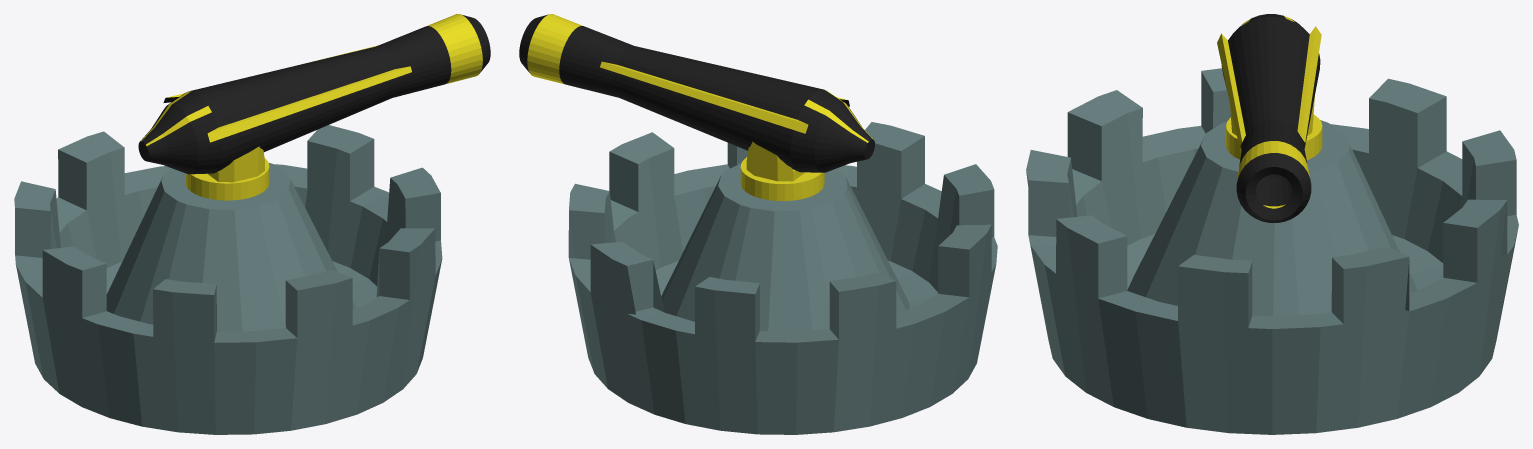
File: Tower2.fbx
The picture shows the model from 3 angles, left to right: view 1: azimuth 30°, elevation 25°; view 2: azimuth 150°, elevation 25°; view 3: azimuth 270°, elevation 25°; orthographic projection. The views are drawn at different scales.
Parts seen in each view (by area): view 1: Tower, Cylinder; view 2: Tower, Cylinder; view 3: Tower, Cylinder.
Boxes of the visible parts, left/top/right/bottom form: Tower: left=14, top=125, right=442, bottom=434; Cylinder: left=138, top=14, right=490, bottom=200; Tower: left=568, top=122, right=997, bottom=434; Cylinder: left=519, top=14, right=874, bottom=201; Tower: left=1026, top=68, right=1518, bottom=434; Cylinder: left=1217, top=14, right=1322, bottom=222.
Size of the model in its own units: 289 by 175 by 245.
